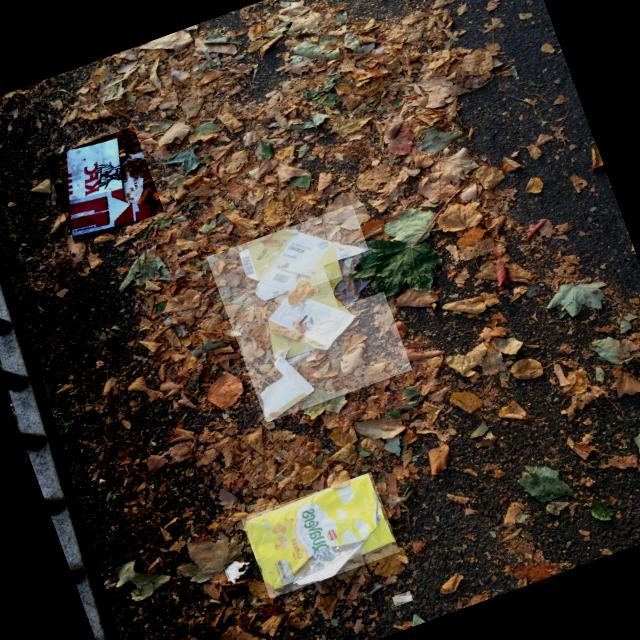Cigarette: (393, 597, 413, 603), (245, 132, 253, 147)
Crisp packet: (246, 473, 396, 590)
Food Carton: (238, 230, 369, 422), (67, 139, 151, 237)
Plastic film: (334, 251, 379, 305)
Unlabeled litter: (225, 561, 249, 584)
